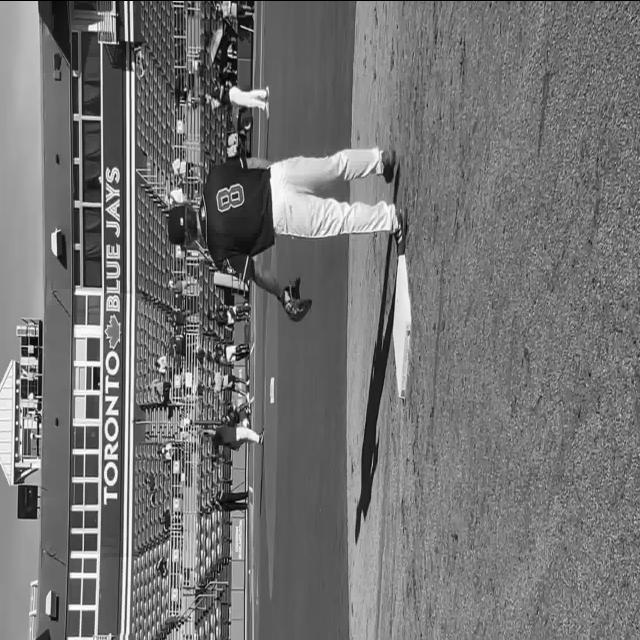base: (392, 253, 411, 398)
baseball_glove: (280, 275, 311, 322)
shoe: (394, 204, 408, 255), (381, 149, 396, 182)
